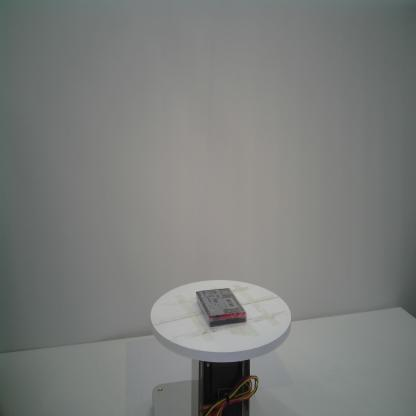Gum: (194, 284, 248, 330)
